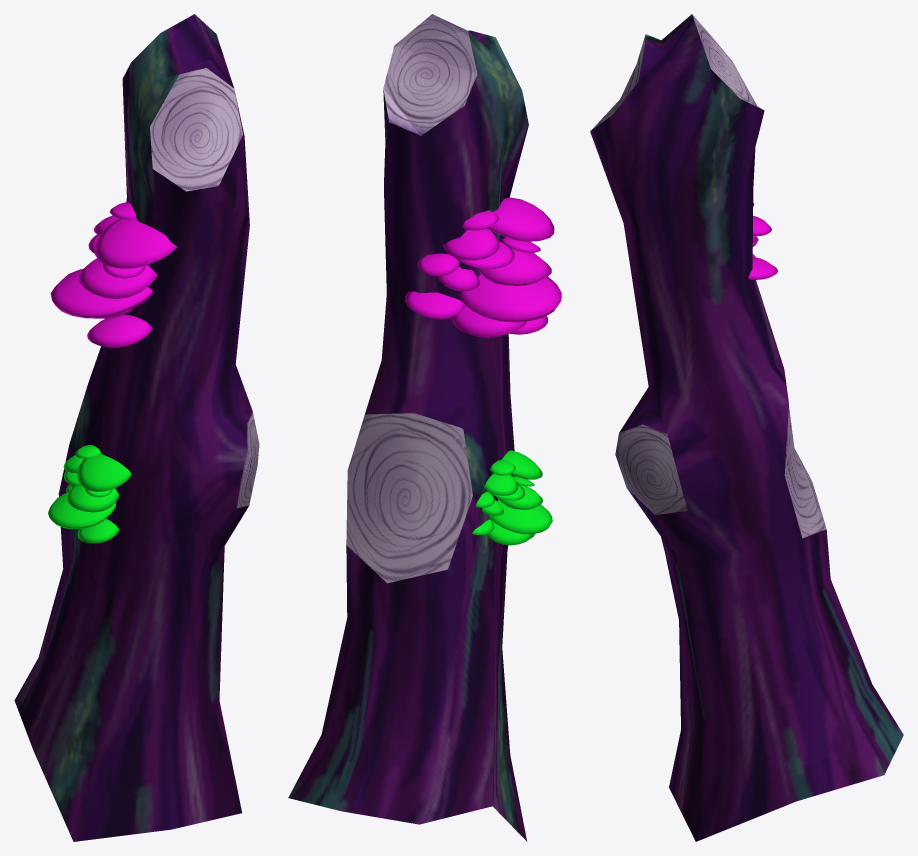
The model's file is ShroomStump_1.fbx.
3 renders of one model, left to right at view 1: azimuth 30°, elevation 25°; view 2: azimuth 150°, elevation 25°; view 3: azimuth 270°, elevation 25°, orthographic. The views are drawn at different scales.
Parts seen in each view (by area): view 1: Tree_1_UNWRAPPED, Mushrooms_Bunch_1, Mushrooms_Bunch_2; view 2: Tree_1_UNWRAPPED, Mushrooms_Bunch_1, Mushrooms_Bunch_2; view 3: Tree_1_UNWRAPPED, Mushrooms_Bunch_1.
Boxes of the visible parts, x1,y1,x2,y2 form: Tree_1_UNWRAPPED: [14, 14, 259, 841]; Mushrooms_Bunch_1: [50, 202, 177, 347]; Mushrooms_Bunch_2: [48, 445, 131, 543]; Tree_1_UNWRAPPED: [288, 14, 528, 841]; Mushrooms_Bunch_1: [405, 197, 561, 337]; Mushrooms_Bunch_2: [471, 450, 552, 545]; Tree_1_UNWRAPPED: [590, 14, 903, 841]; Mushrooms_Bunch_1: [748, 203, 777, 279].
Bounding box in the file's own units: 82.57 × 316 × 113.
